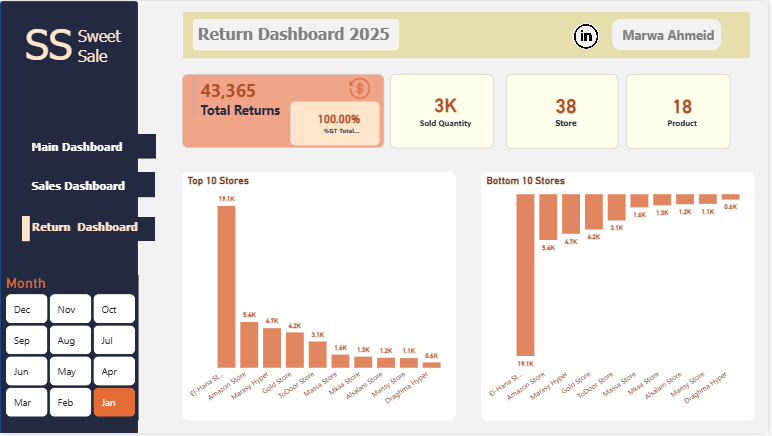

Layout of this report page (visuals, bound fields, positions):
{"tool":"powerbi","page":{"name":"Return Dashboard","canvas":[1280,720],"ordinal":2},"visuals":[{"type":"shape","box":[0,0,230.4,816.5],"z":0},{"type":"textbox","box":[48.9,221.7,210,41.4],"z":0,"group":"g1"},{"type":"multiRowCard","fields":{"Values":["Measure.Total Returns"]},"box":[303.3,121.7,336.7,123.3],"z":1000},{"type":"textbox","box":[36,358,13,42],"z":1000,"group":"g1"},{"type":"cardVisual","fields":{"Data":["Measure.Total Quantity"]},"box":[649.6,121.4,172.6,123.9],"z":2000},{"type":"cardVisual","fields":{"Data":["Count(all sales.Store names)"]},"box":[842.6,121.2,187.2,125.3],"z":3000},{"type":"textbox","box":[36.7,21.7,103.3,118.3],"z":4000},{"type":"cardVisual","fields":{"Data":["Count(all sales.المنتج)"]},"box":[1044.2,121.2,174.2,125.3],"z":5000},{"type":"textbox","box":[125.3,36,90.7,93.6],"z":6000},{"type":"textbox","box":[305,18.3,945,76.7],"z":7000},{"type":"shape","box":[953.6,37.3,46.4,43.6],"z":8000},{"type":"shape","box":[1020,30,181.7,51.7],"z":9000},{"type":"image","box":[933.6,30,87.3,58.2],"z":10000},{"type":"textbox","box":[1020,36.7,181.7,53.3],"z":11000},{"type":"textbox","box":[49,360,210.2,40.3],"z":12000},{"type":"textbox","box":[49,285.1,210.2,41.8],"z":13000},{"type":"group","id":"g1","title":"Group 1","box":[36,221.7,222.9,178.3],"z":14000},{"type":"textbox","box":[321.7,30,343.3,51.7],"z":15000},{"type":"advancedSlicerVisual","title":"Month ","fields":{"Values":["all sales.Month Name"]},"box":[4.3,456.5,226.1,241.9],"z":16000},{"type":"clusteredColumnChart","title":"Top 10 Stores","fields":{"Category":["all sales.Store names"],"Y":["Measure.Total Returns"]},"box":[302.9,284.3,455.7,414.3],"z":17000},{"type":"cardVisual","fields":{"Data":["Measure.Total Returns"]},"box":[482.7,167.3,150,75.5],"z":18000},{"type":"clusteredColumnChart","title":"Bottom 10 Stores","fields":{"Category":["all sales.Store names"],"Y":["Measure.Total Returns"]},"box":[801.4,284.3,455.7,414.3],"z":19000},{"type":"actionButton","box":[49,286.6,210.2,40.3],"z":20000},{"type":"actionButton","box":[49,221.8,210.2,40.3],"z":21000},{"type":"image","box":[581.8,128.2,36.4,34.5],"z":22000}]}

Visuals, with their boxes on the page's 1280x720 design canvas (x1, y1, x2, y2). These are canvas units, not pixel positions in the 772x436 screenshot, which may show the page scaled, cropped or inside an application window:
shape: <bbox>0, 0, 230, 816</bbox>
textbox: <bbox>49, 222, 259, 263</bbox>
multiRowCard - Measure.Total Returns: <bbox>303, 122, 640, 245</bbox>
textbox: <bbox>36, 358, 49, 400</bbox>
cardVisual - Measure.Total Quantity: <bbox>650, 121, 822, 245</bbox>
cardVisual - Count(all sales.Store names): <bbox>843, 121, 1030, 246</bbox>
textbox: <bbox>37, 22, 140, 140</bbox>
cardVisual - Count(all sales.المنتج): <bbox>1044, 121, 1218, 246</bbox>
textbox: <bbox>125, 36, 216, 130</bbox>
textbox: <bbox>305, 18, 1250, 95</bbox>
shape: <bbox>954, 37, 1000, 81</bbox>
shape: <bbox>1020, 30, 1202, 82</bbox>
image: <bbox>934, 30, 1021, 88</bbox>
textbox: <bbox>1020, 37, 1202, 90</bbox>
textbox: <bbox>49, 360, 259, 400</bbox>
textbox: <bbox>49, 285, 259, 327</bbox>
"Group 1" group: <bbox>36, 222, 259, 400</bbox>
textbox: <bbox>322, 30, 665, 82</bbox>
"Month " advancedSlicerVisual: <bbox>4, 456, 230, 698</bbox>
"Top 10 Stores" clusteredColumnChart: <bbox>303, 284, 759, 699</bbox>
cardVisual - Measure.Total Returns: <bbox>483, 167, 633, 243</bbox>
"Bottom 10 Stores" clusteredColumnChart: <bbox>801, 284, 1257, 699</bbox>
actionButton: <bbox>49, 287, 259, 327</bbox>
actionButton: <bbox>49, 222, 259, 262</bbox>
image: <bbox>582, 128, 618, 163</bbox>
